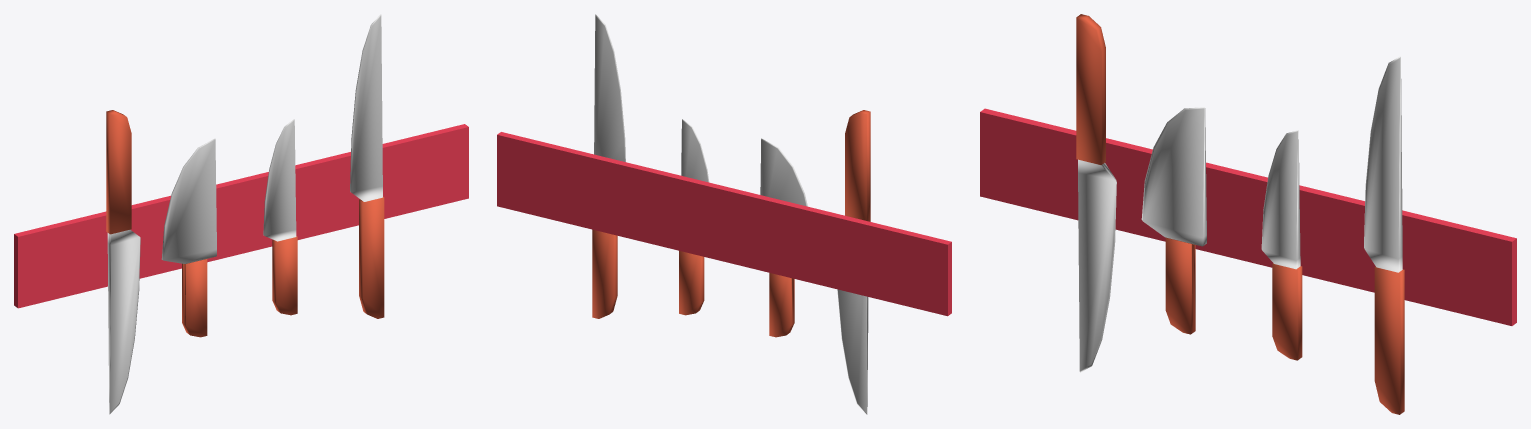
The model's file is KitchenDeco.fbx.
3 renders of one model, left to right at view 1: azimuth 30°, elevation 25°; view 2: azimuth 150°, elevation 25°; view 3: azimuth 330°, elevation 25°, orthographic. The views are drawn at different scales.
Visible parts, largest first — view 1: Куб.018; view 2: Куб.018; view 3: Куб.018.
Boxes of the visible parts, x1,y1,x2,y2 form: Куб.018: (14, 14, 468, 414); Куб.018: (497, 14, 951, 414); Куб.018: (980, 14, 1516, 414).
Size of the model in its own units: 200 by 142 by 7.25.
